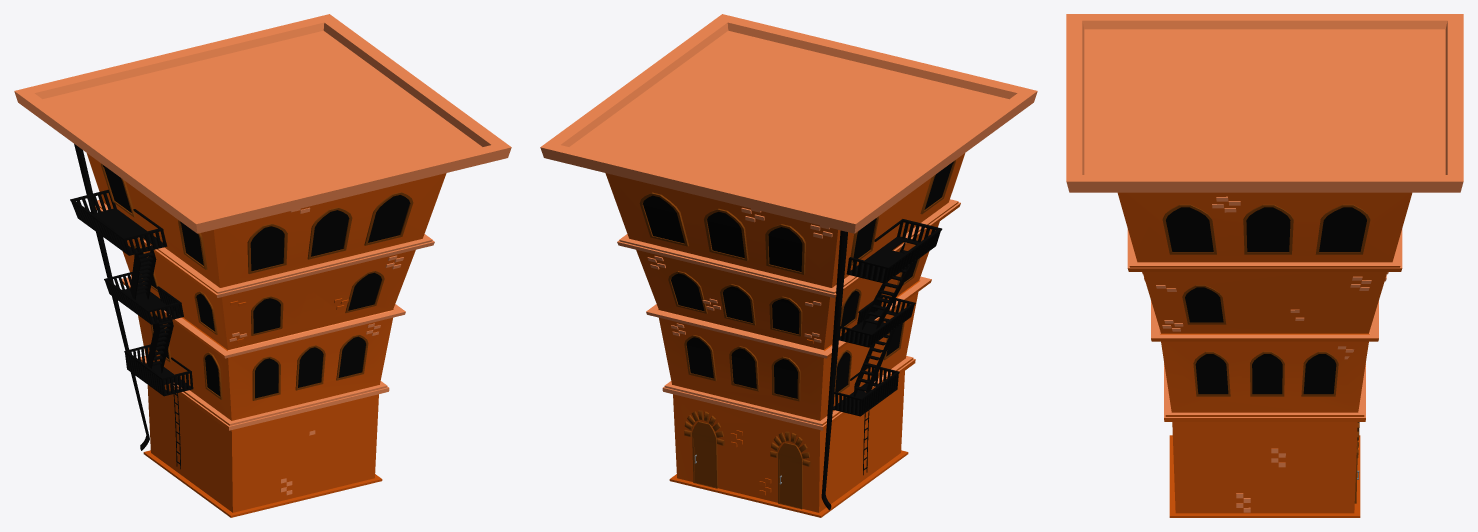
File: house7stylized.fbx
The picture shows the model from 3 angles, left to right: view 1: azimuth 30°, elevation 25°; view 2: azimuth 150°, elevation 25°; view 3: azimuth 270°, elevation 25°; orthographic projection. The views are drawn at different scales.
Visible parts, largest first — view 1: house7stylized; view 2: house7stylized; view 3: house7stylized.
Part boxes in pixels (<box>): house7stylized: <box>14,14,511,517</box>; house7stylized: <box>540,14,1037,517</box>; house7stylized: <box>1066,14,1463,517</box>.
Size of the model in its own units: 1163 by 1227 by 1163.
